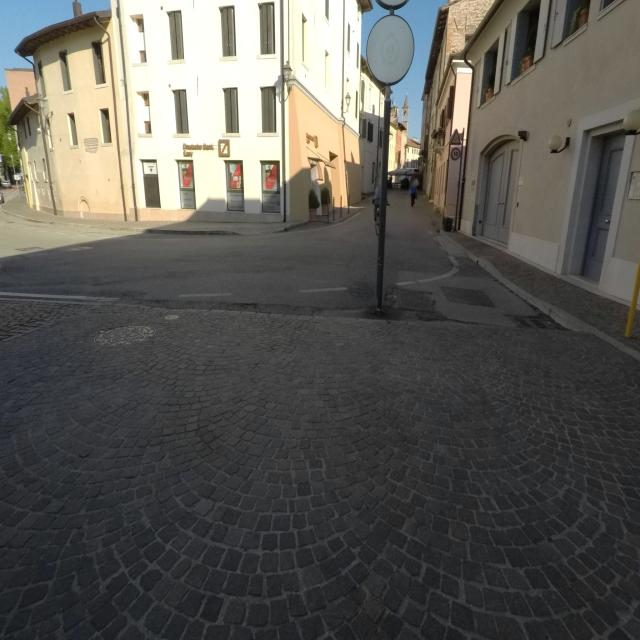car: (398, 174, 412, 190)
